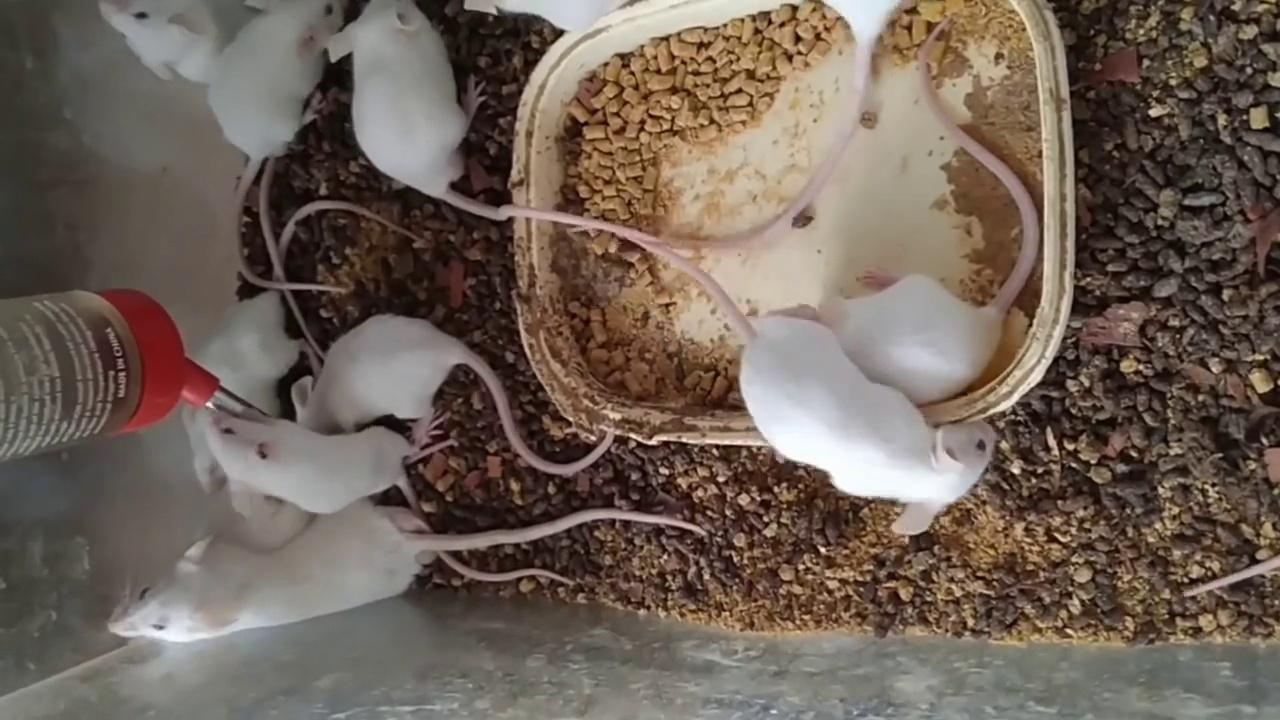rat: (629, 236, 993, 532), (826, 13, 1042, 409), (331, 0, 650, 235), (108, 501, 573, 643), (183, 201, 404, 495), (293, 315, 616, 473), (207, 0, 350, 294), (202, 409, 415, 512), (97, 0, 243, 82)
